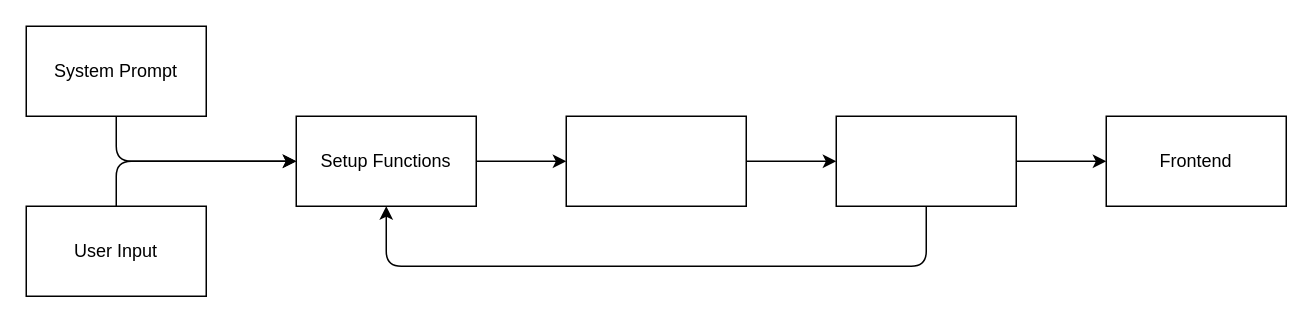
Some shapes in this 1313 by 323 pixel diagram are drawn without their labels. Each missing label, with the centre of its shape:
"API" goes at [655,160].
"Response" goes at [925,160].
